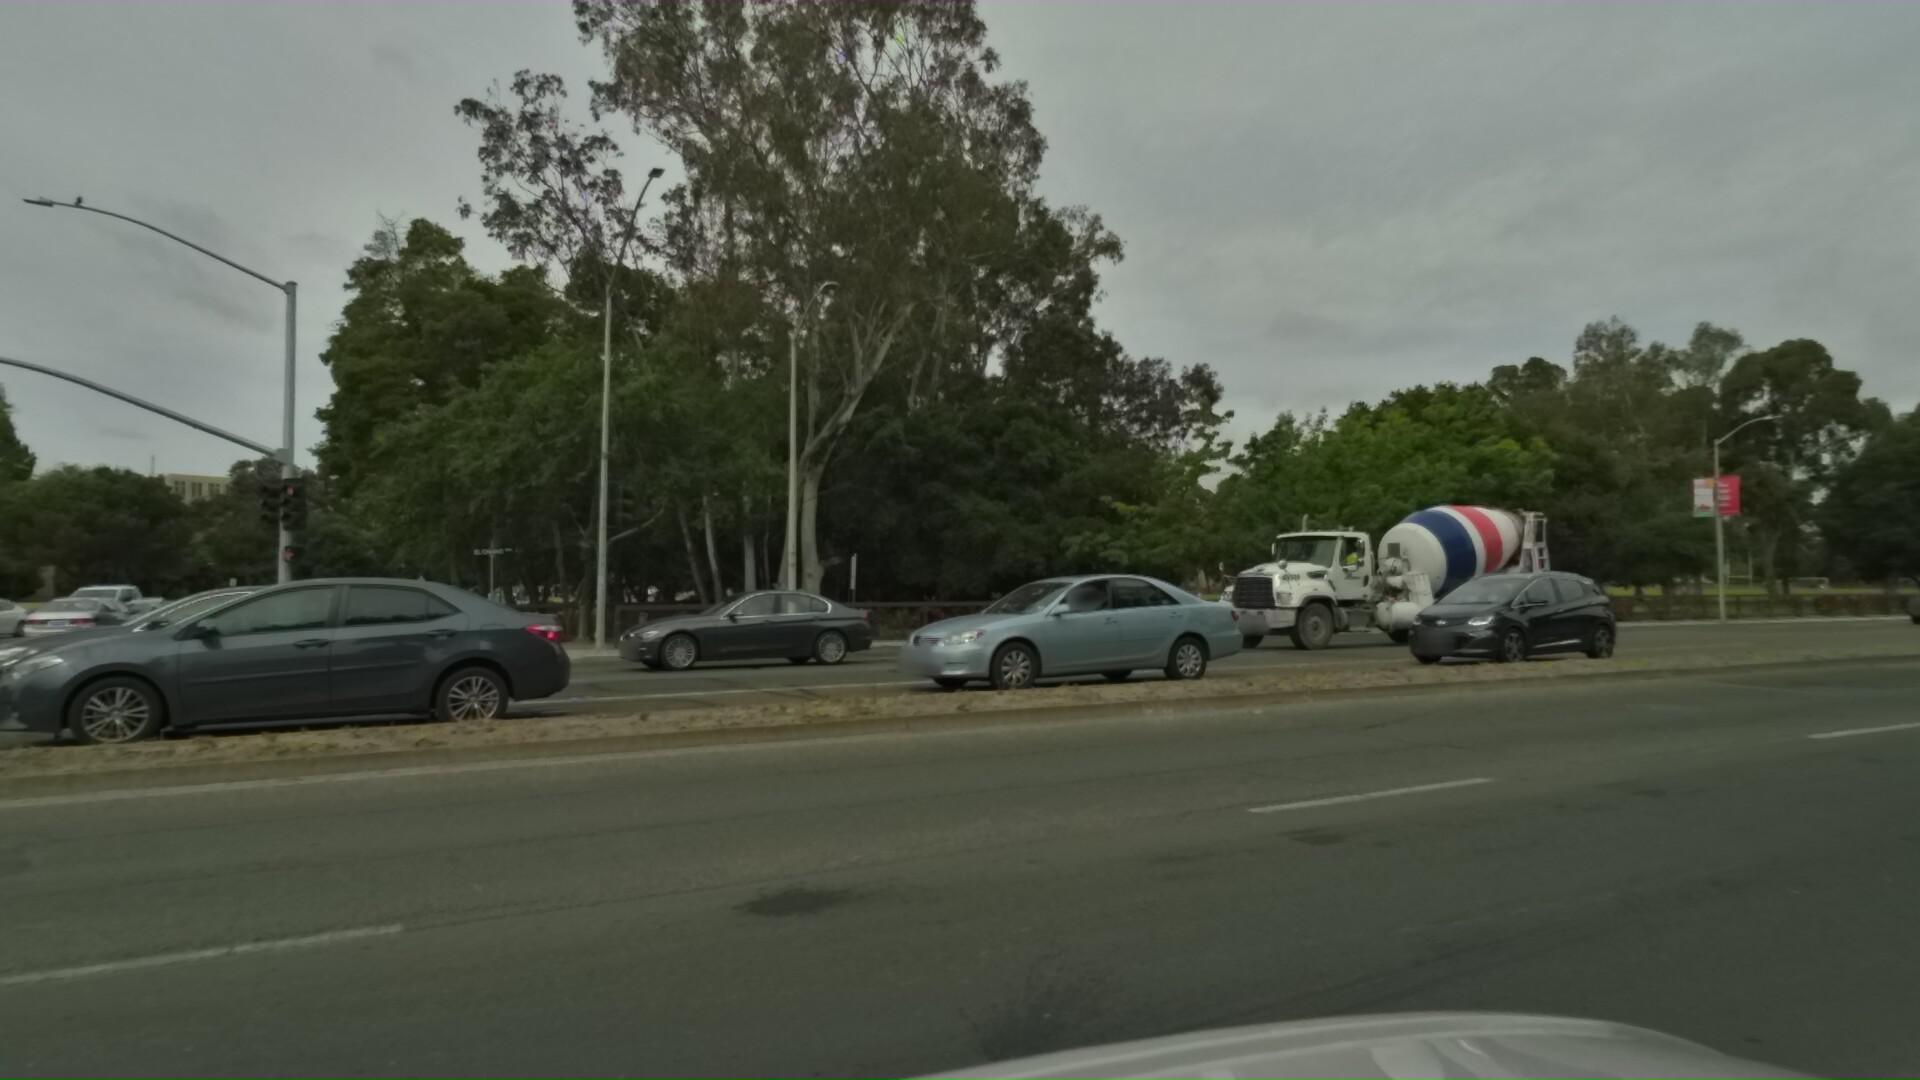car: (0, 564, 531, 790), (825, 553, 1238, 720), (0, 575, 369, 729), (1362, 563, 1611, 673), (545, 582, 820, 676), (0, 591, 138, 651), (9, 579, 157, 636), (1875, 576, 1920, 624), (0, 589, 24, 647)
truck: (1162, 485, 1589, 659)
